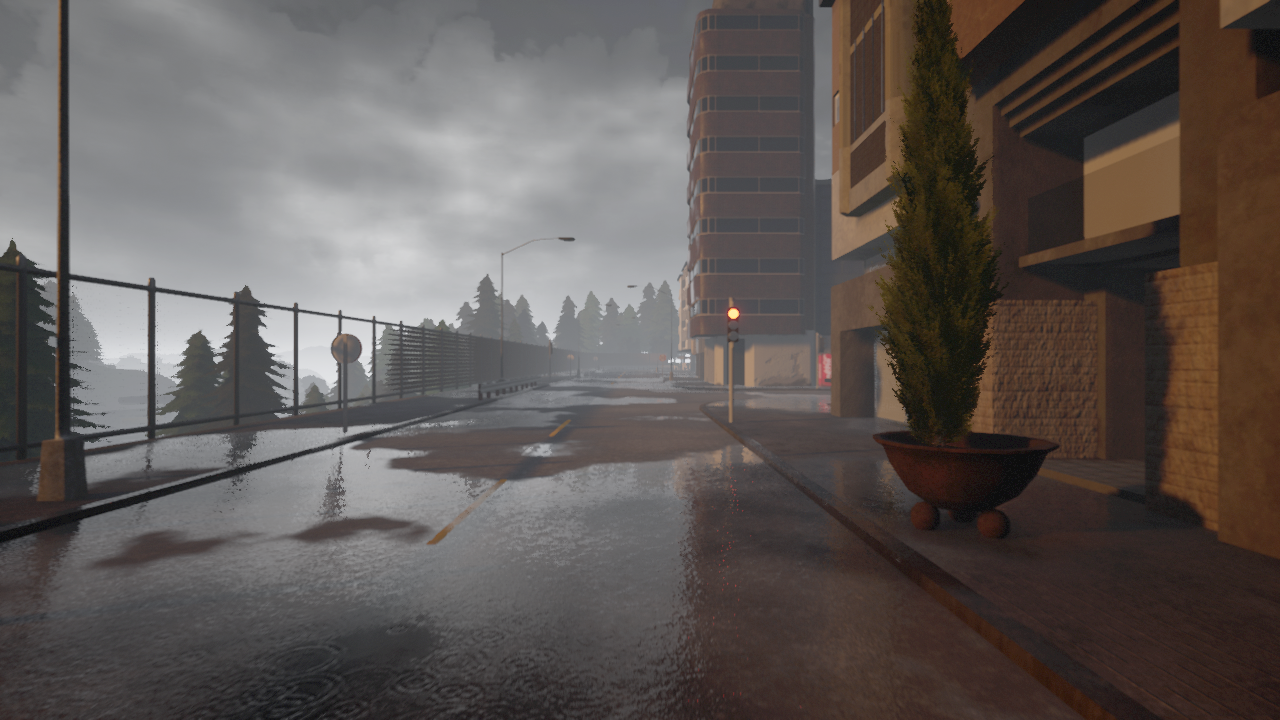red: (725, 306, 740, 343)
